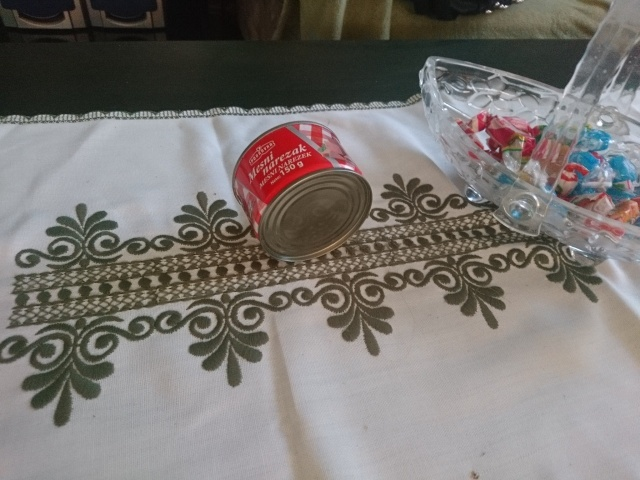Podravka Luncheon Meat 150g: (229, 118, 375, 265)
